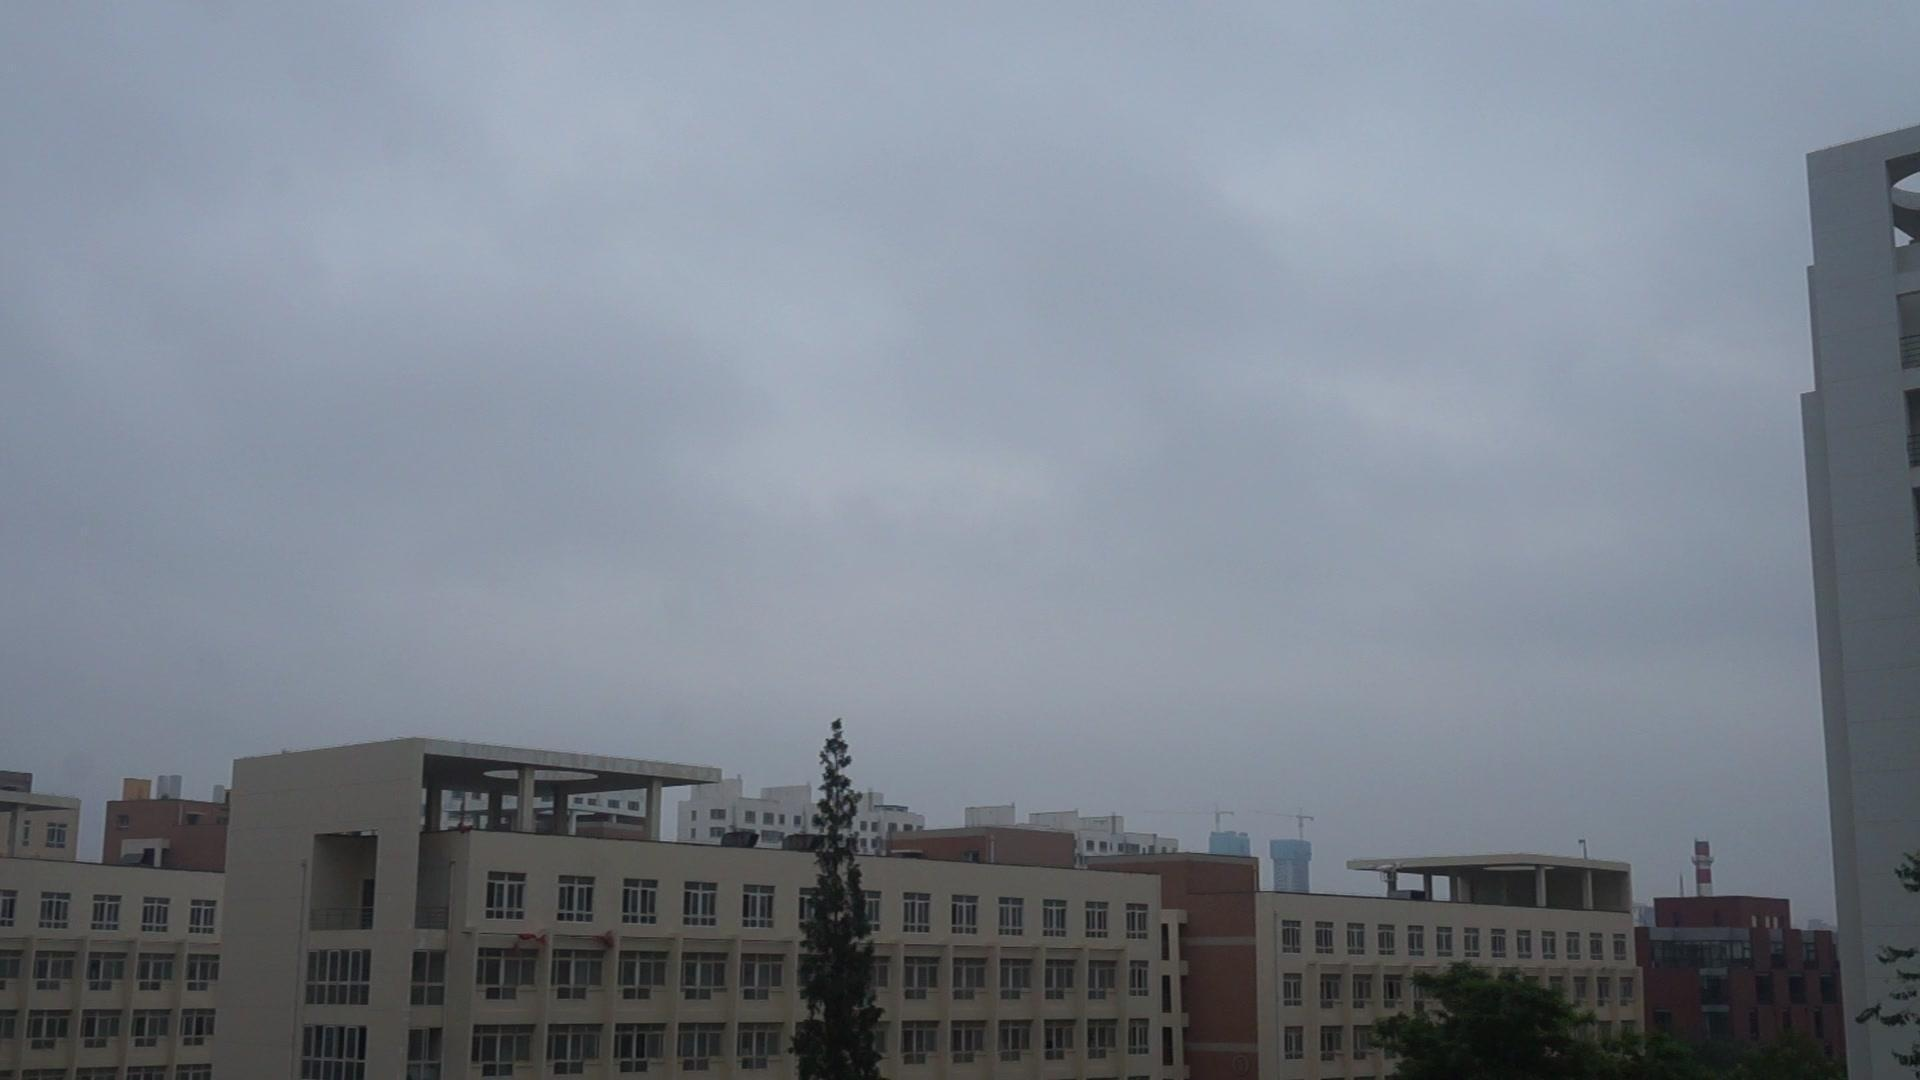UAV: (1369, 864, 1404, 884)
